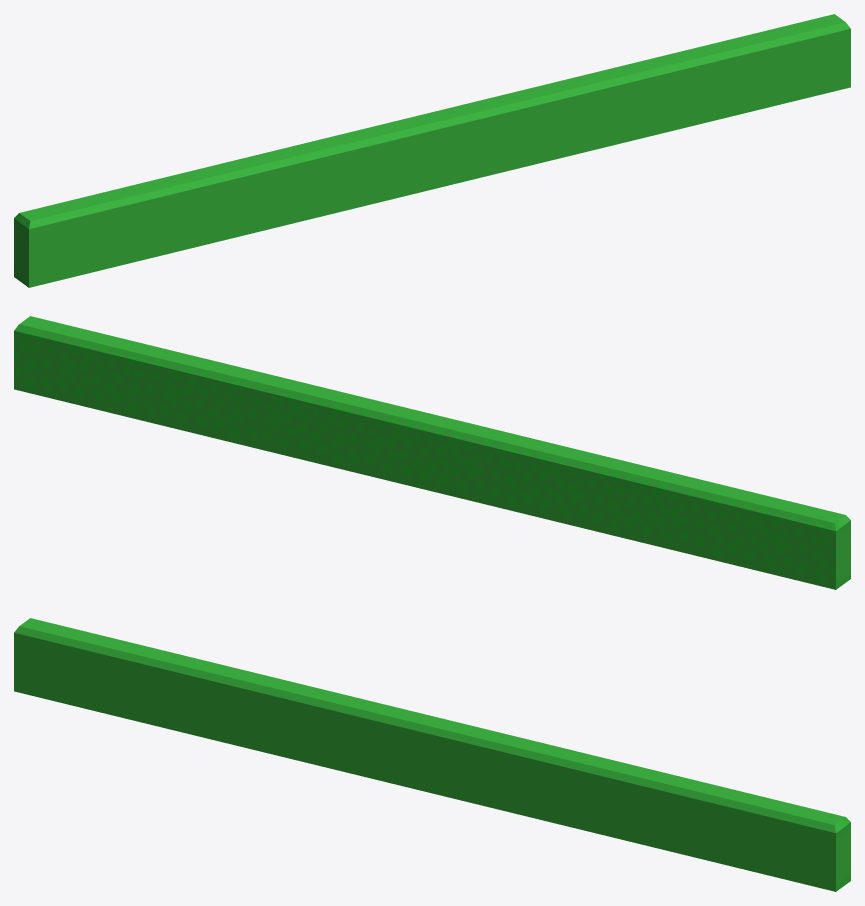
The model's file is Hedge.glb.
3 views of the same model, one above another, from view 1: azimuth 30°, elevation 25°; view 2: azimuth 150°, elevation 25°; view 3: azimuth 330°, elevation 25° (orthographic).
Parts seen in each view (by area): view 1: VisionBlocker; view 2: VisionBlocker; view 3: VisionBlocker.
Part boxes in pixels (<box>): VisionBlocker: <box>14,14,850,287</box>; VisionBlocker: <box>14,316,850,589</box>; VisionBlocker: <box>14,618,850,891</box>.
Bounding box in the file's own units: 25.31 × 1.9 × 0.8.
Materials: 1 (1 with a texture image).
